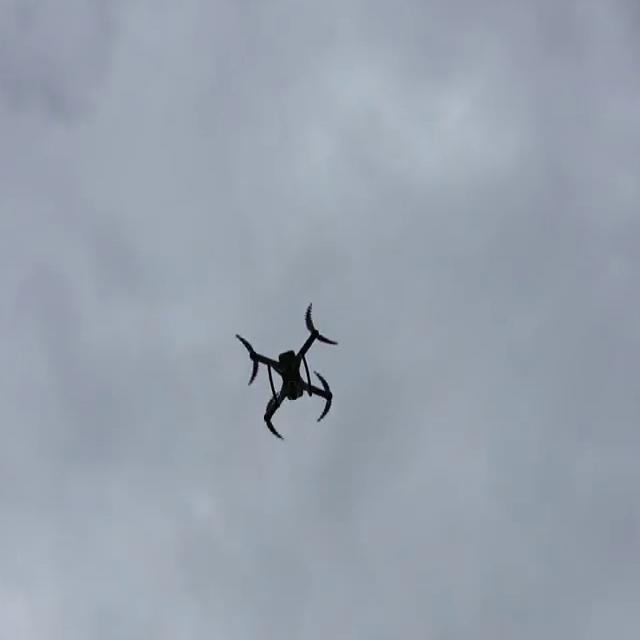drone: (228, 287, 358, 439)
